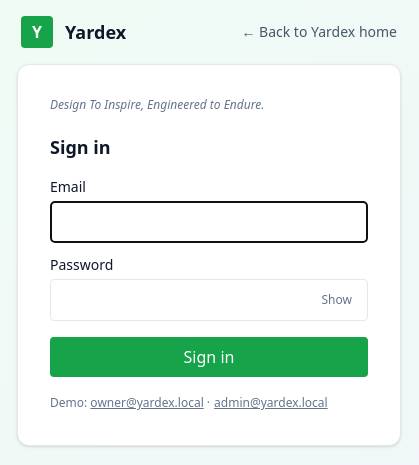
Test case: LoginPage › fills in only the demo email on click and never shows a demo password
What coordinates should you click on to do the following:
click the button "owner@yardex.local"
I would click on:
 (147, 403)
Its box is top-left (90, 393), bottom-right (204, 413).
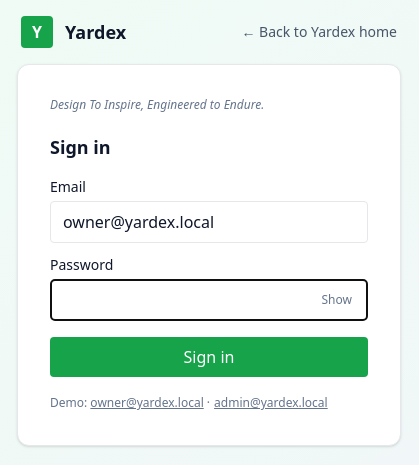
Check: the password field labelled "Password" is empty, box top-left (50, 279), bottom-right (368, 321)
Check: the field labelled "Email" holds "owner@yardex.local", box top-left (50, 201), bottom-right (368, 243)
